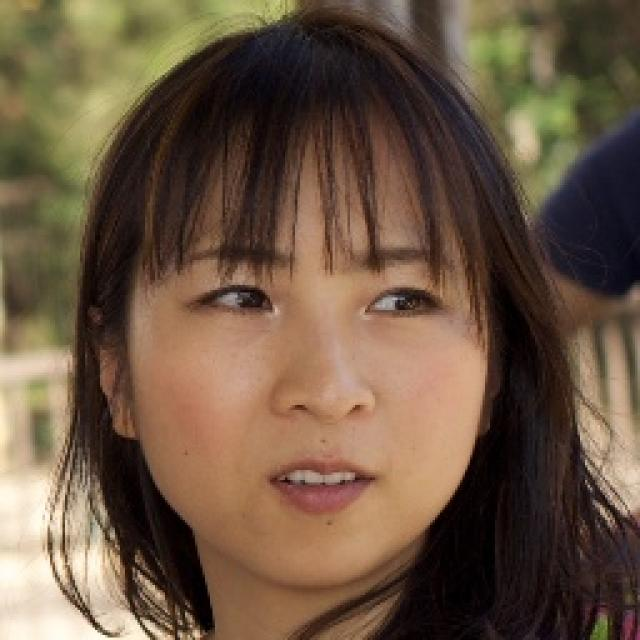earlobe: (106, 386, 140, 438)
eye: (190, 283, 278, 315), (362, 288, 446, 318)
nose: (273, 402, 385, 463)
wholeear: (84, 305, 140, 438)
